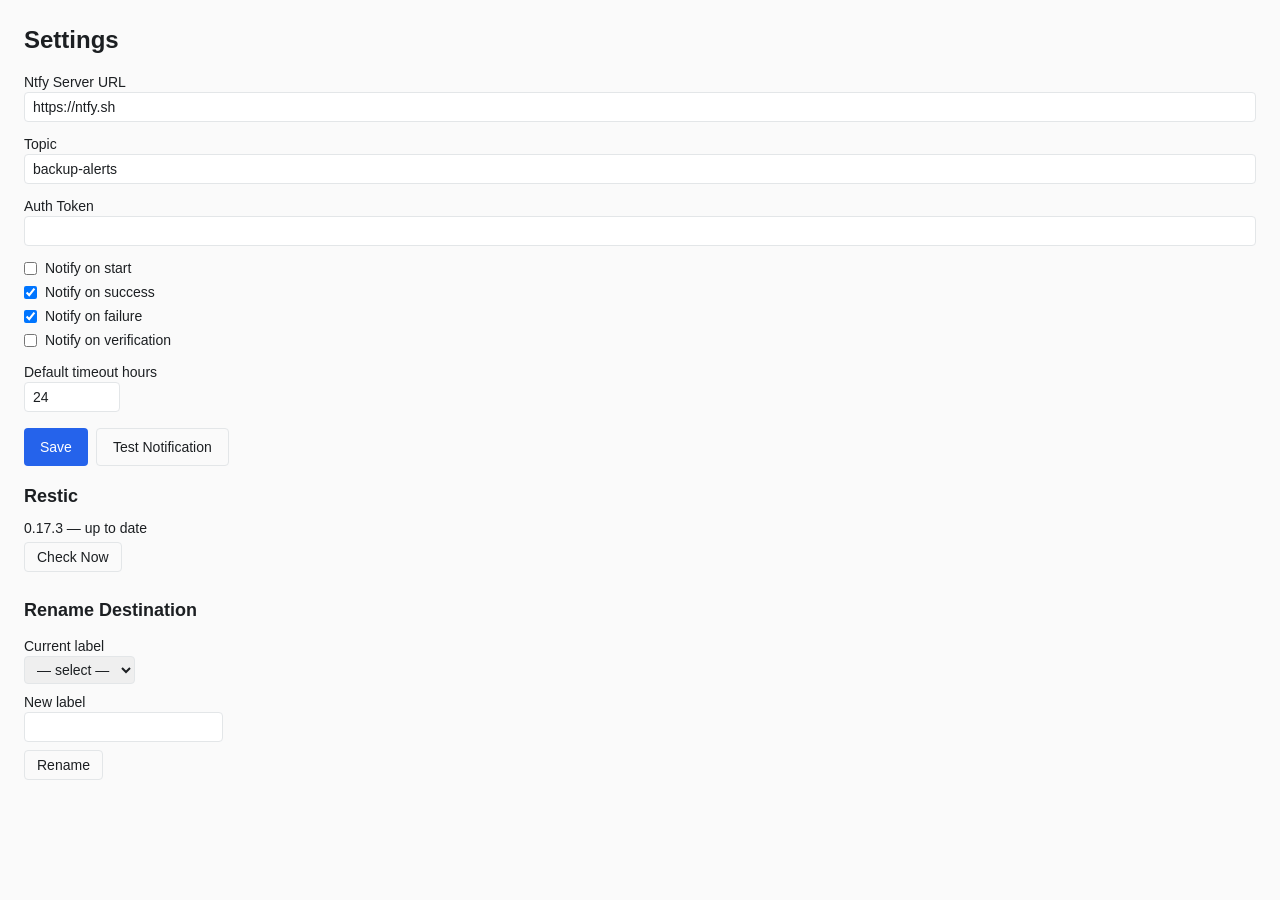
it: Settings › error states › shows error when save fails
Expected: the field labelled "Topic" is shown, left=24, top=154, right=1256, bottom=184
Click the button "Save": (56,447) left=24, top=428, right=88, bottom=466
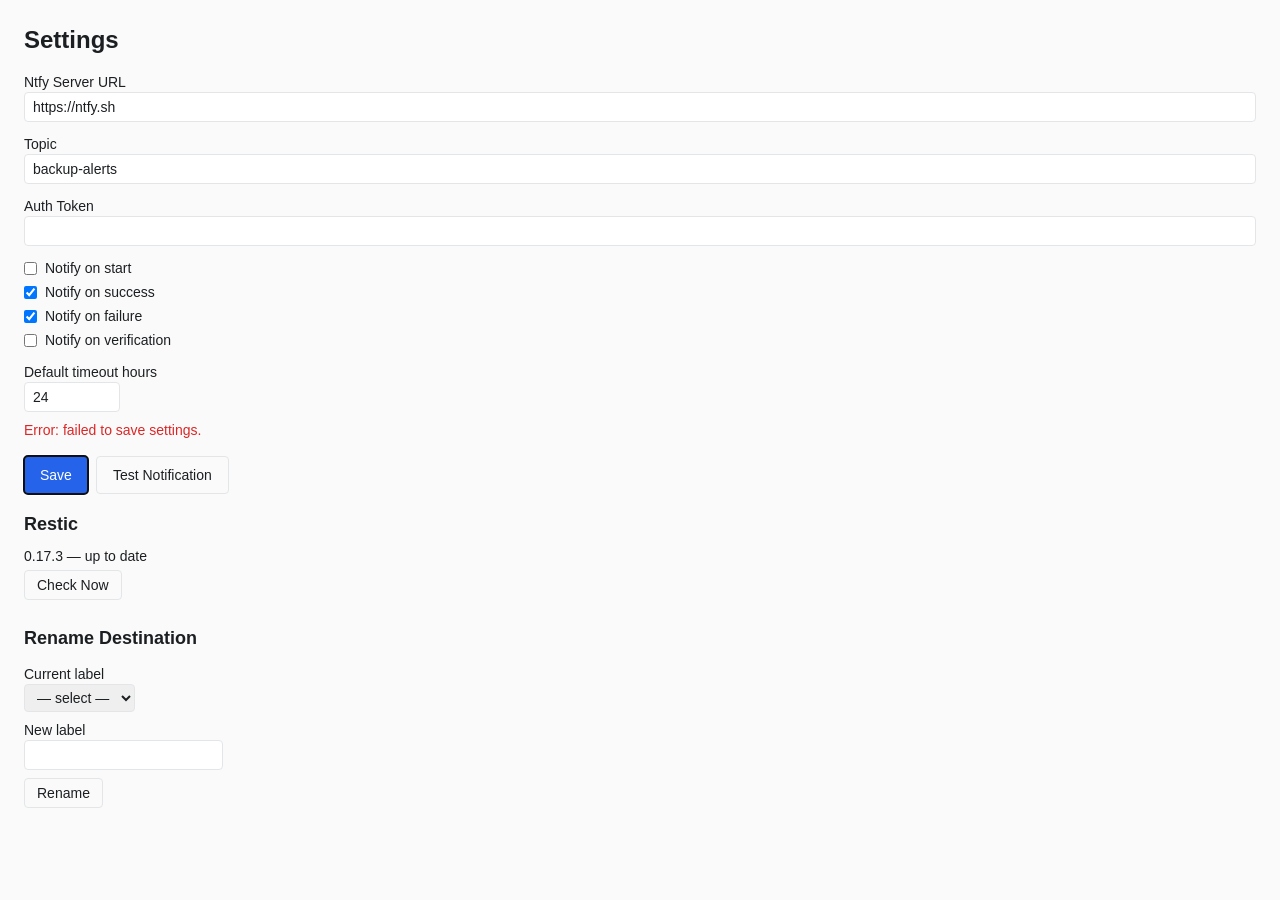
Expected: the text "Error: failed to save settings." is shown, left=24, top=422, right=201, bottom=438
